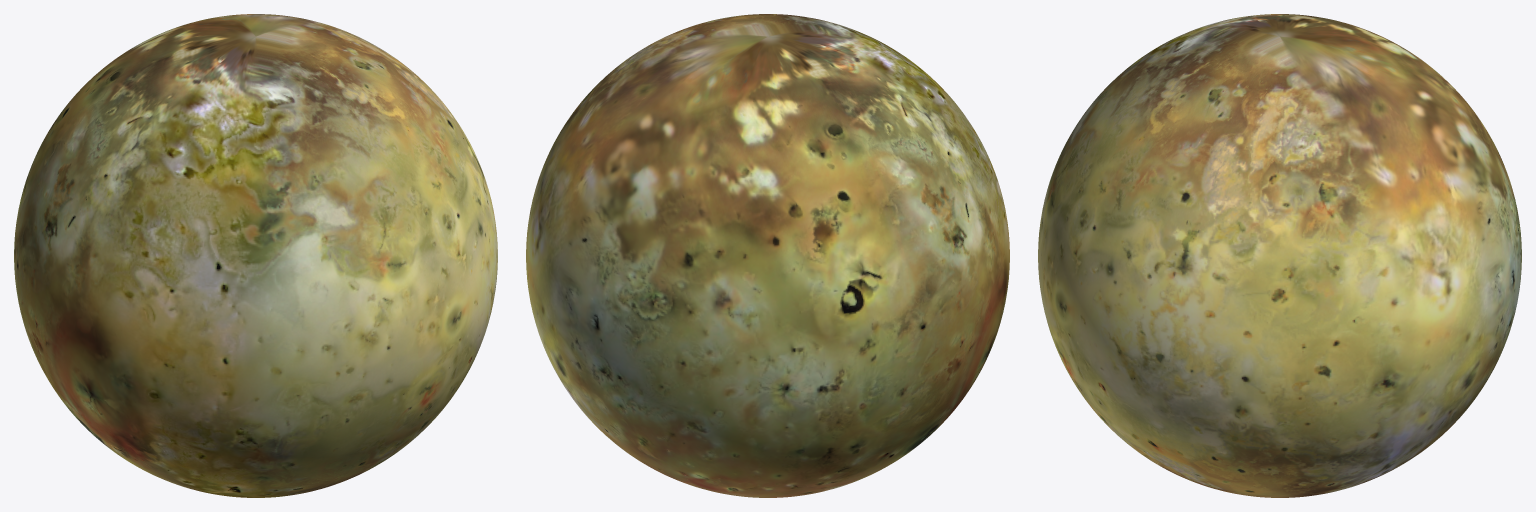
File: moonio.glb
3 views of the same model, side by side, from view 1: azimuth 30°, elevation 25°; view 2: azimuth 150°, elevation 25°; view 3: azimuth 270°, elevation 25° (orthographic).
Parts seen in each view (by area): view 1: cylindrically_mapped_sphere; view 2: cylindrically_mapped_sphere; view 3: cylindrically_mapped_sphere.
Part boxes in pixels (x1=…): cylindrically_mapped_sphere: x1=14, y1=14, x2=497, y2=497; cylindrically_mapped_sphere: x1=526, y1=14, x2=1009, y2=497; cylindrically_mapped_sphere: x1=1038, y1=14, x2=1521, y2=497.
Bounding box in the file's own units: 1000 × 1000 × 1000.
Materials: 1 (1 with a texture image).
